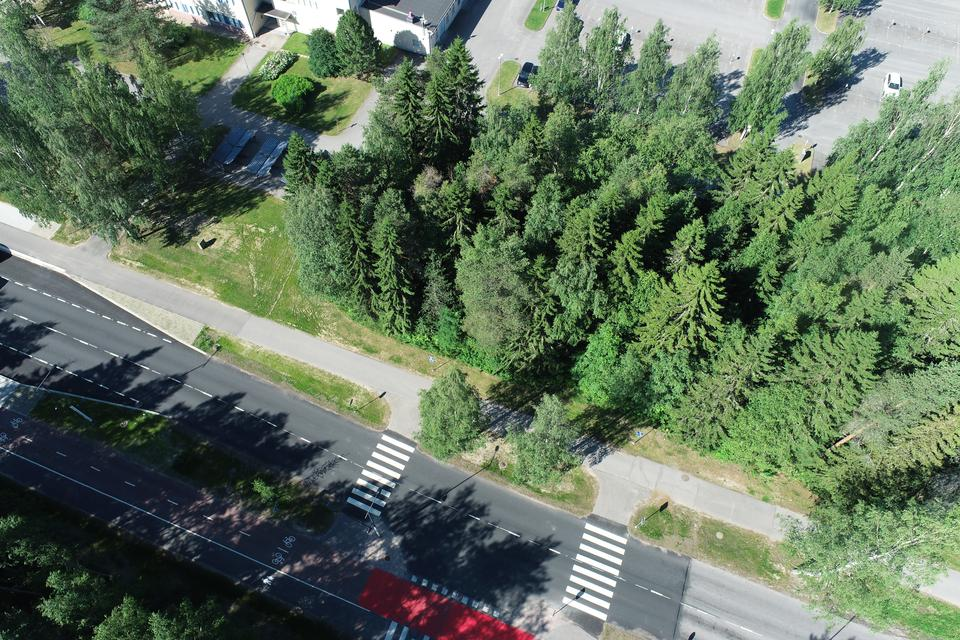intersection: (319, 360, 471, 640), (542, 447, 687, 640)
